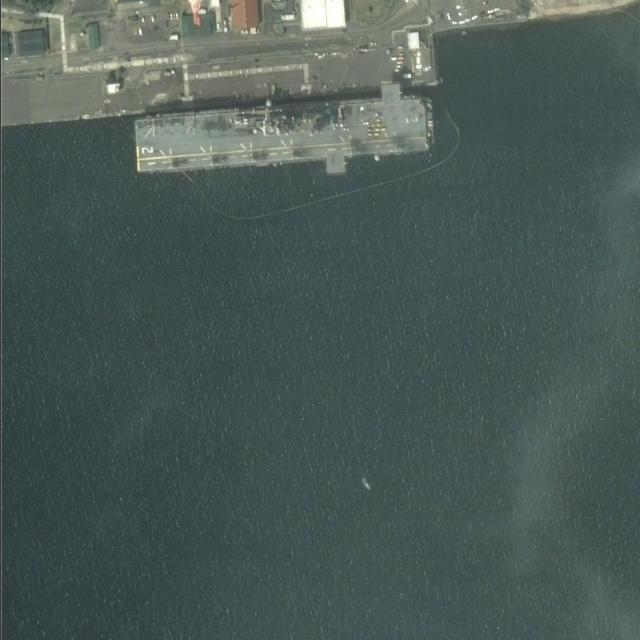Landing: (134, 90, 431, 175)
